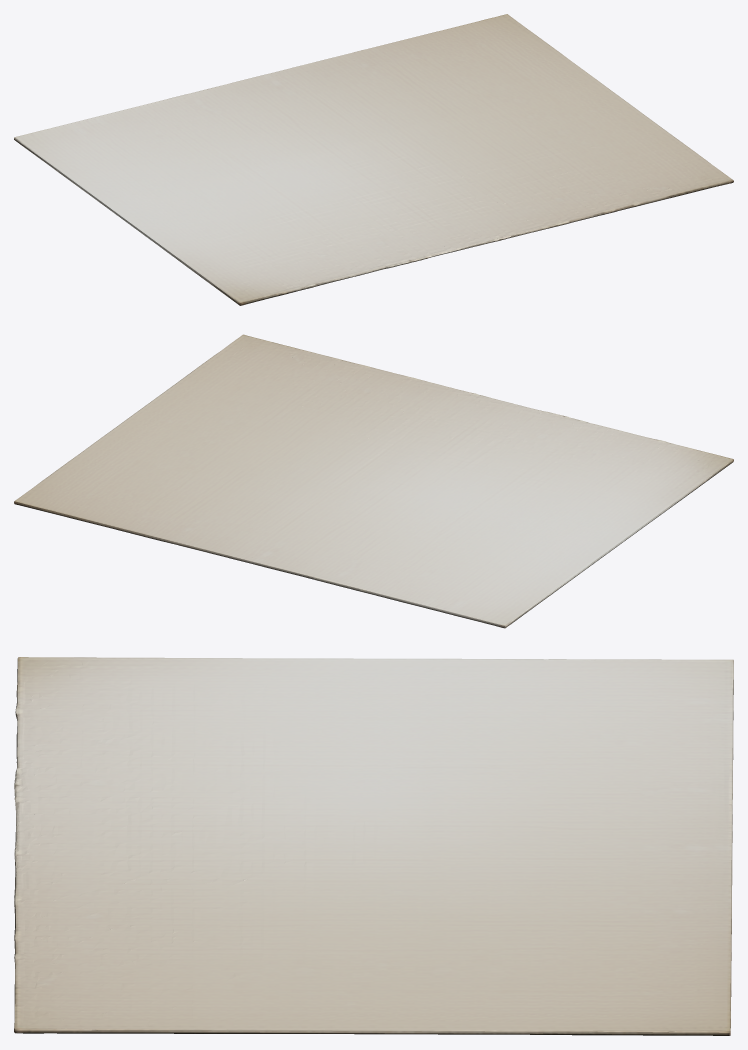
Rendered from rug_01.glb.
3 views of the same model, one above another, from view 1: azimuth 30°, elevation 25°; view 2: azimuth 150°, elevation 25°; view 3: azimuth 270°, elevation 25° (orthographic). The views are drawn at different scales.
Parts seen in each view (by area): view 1: geometry_0; view 2: geometry_0; view 3: geometry_0.
Part boxes in pixels (<box>): geometry_0: <box>14,14,733,305</box>; geometry_0: <box>14,334,733,628</box>; geometry_0: <box>14,657,733,1035</box>.
Bounding box in the file's own units: 2.53 × 0.0375 × 2.03.
1 material, 1 textured.
